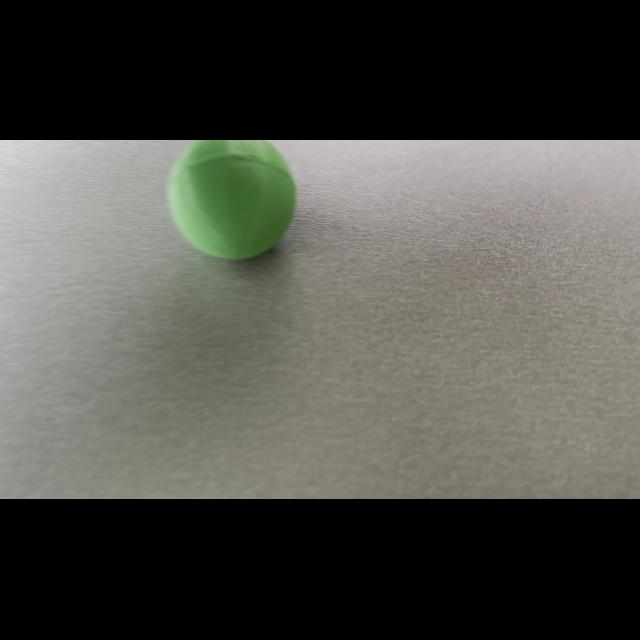objects: (160, 140, 304, 266)
